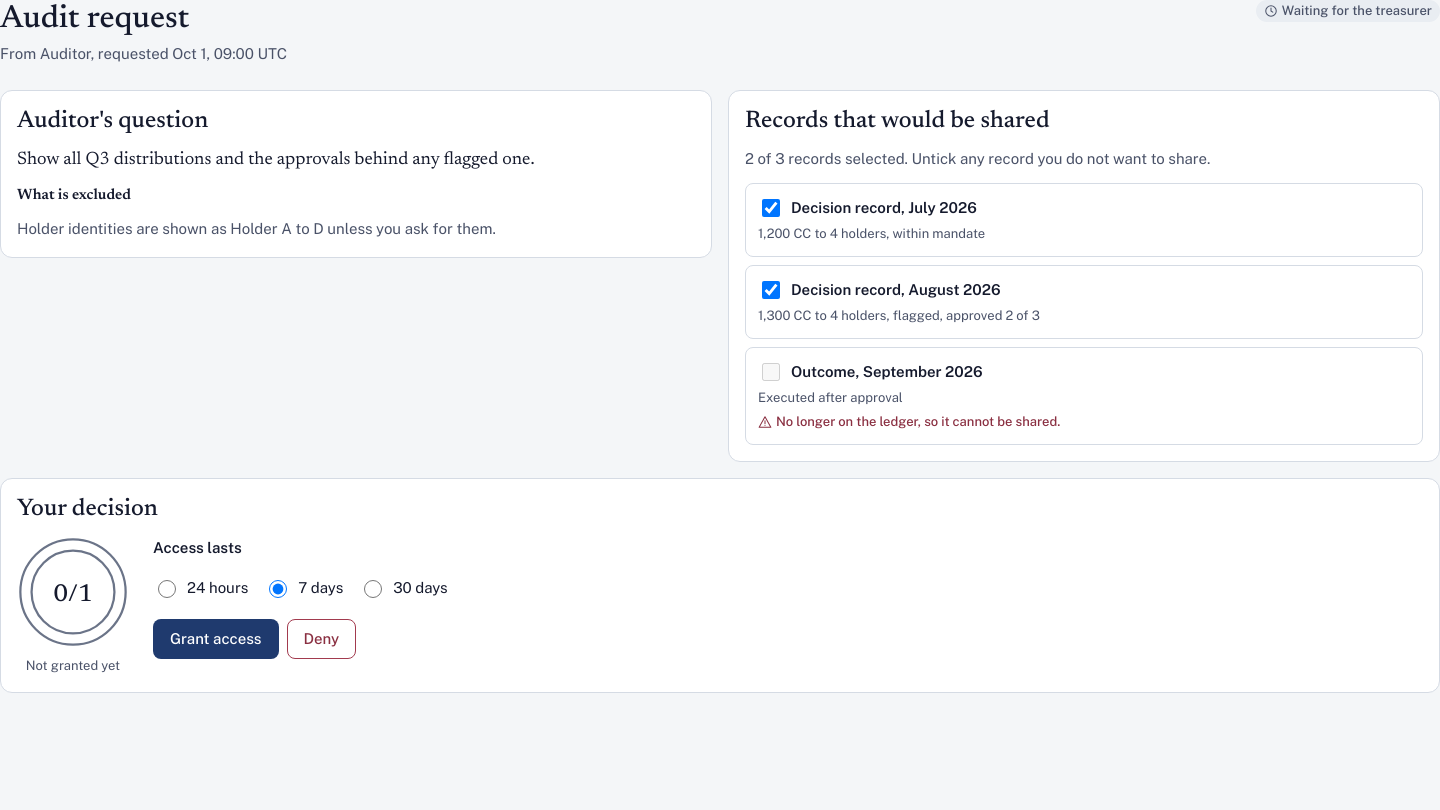
it: treasurer review page › requires a reason to deny, then sends it and says "Request denied"
Expected: the element "Auditor's question" is shown, [0, 90, 712, 258]
Step 1. Click the button "Deny" → [321, 639], box [286, 619, 356, 659]
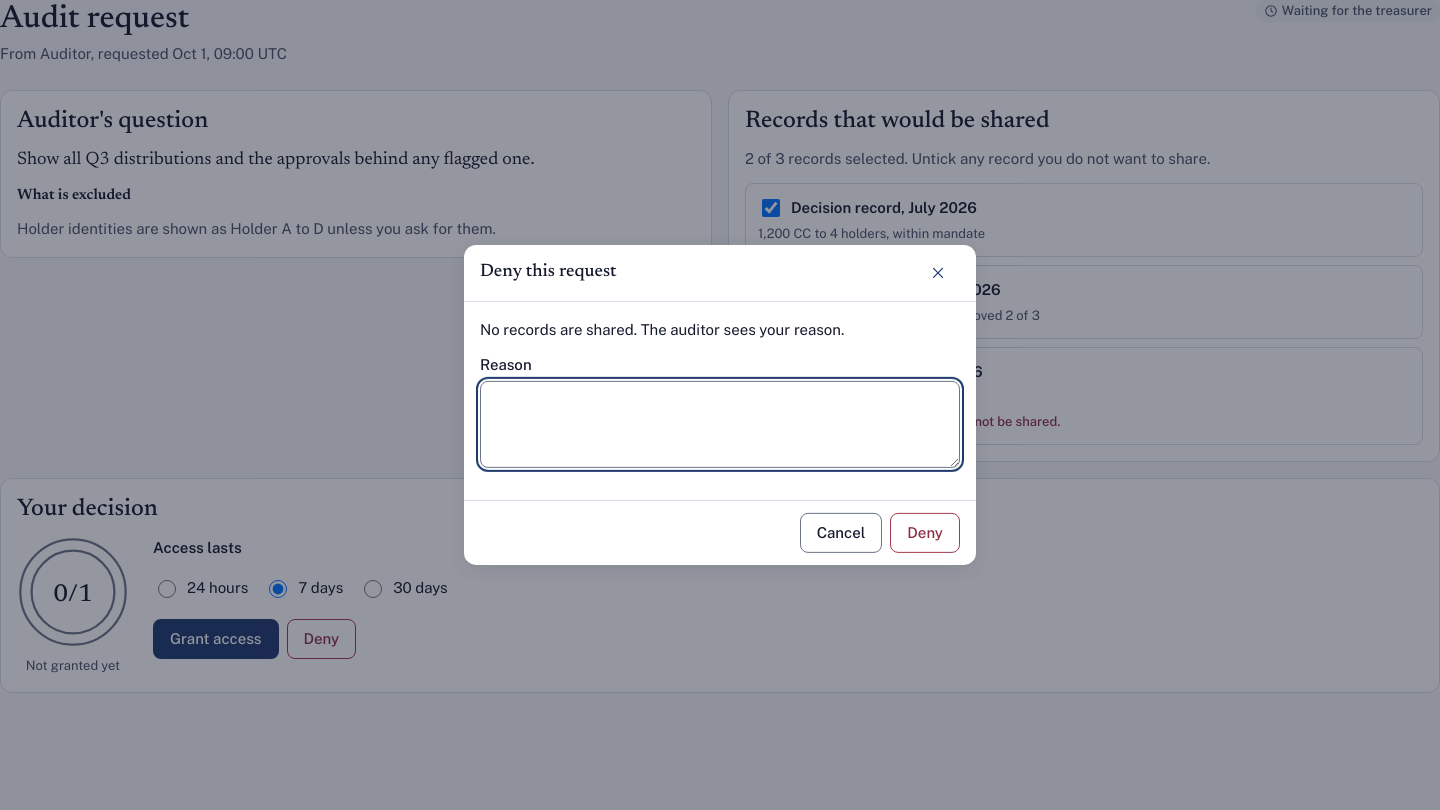
Step 2. Click the button "Deny" → [925, 533], box [890, 513, 960, 553]
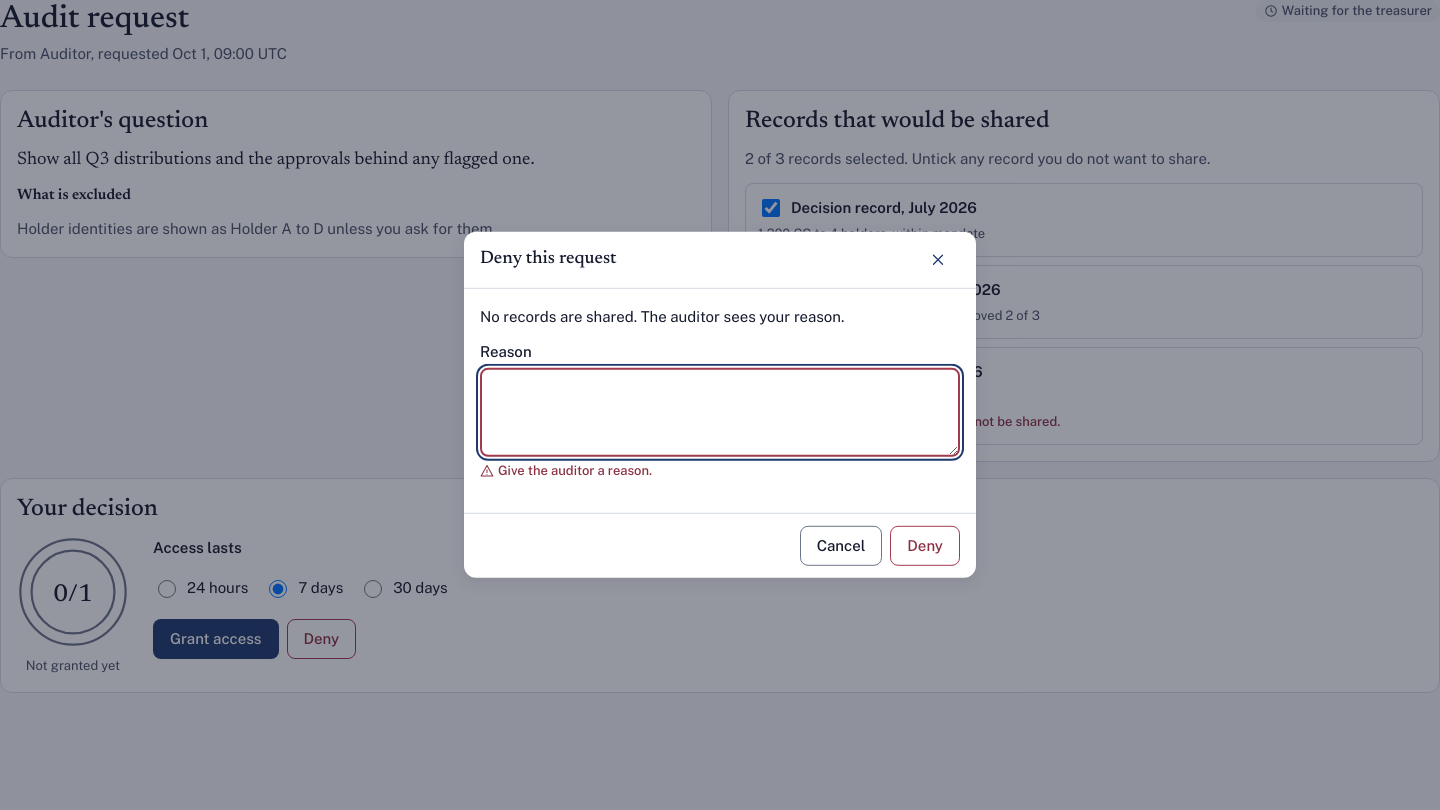
Expected: the text "Give the auditor a reason." is shown, [498, 461, 652, 481]
Step 3. Type "Too broad for this quarter." into the text box labelled "Reason" → [720, 412], box [480, 367, 960, 457]
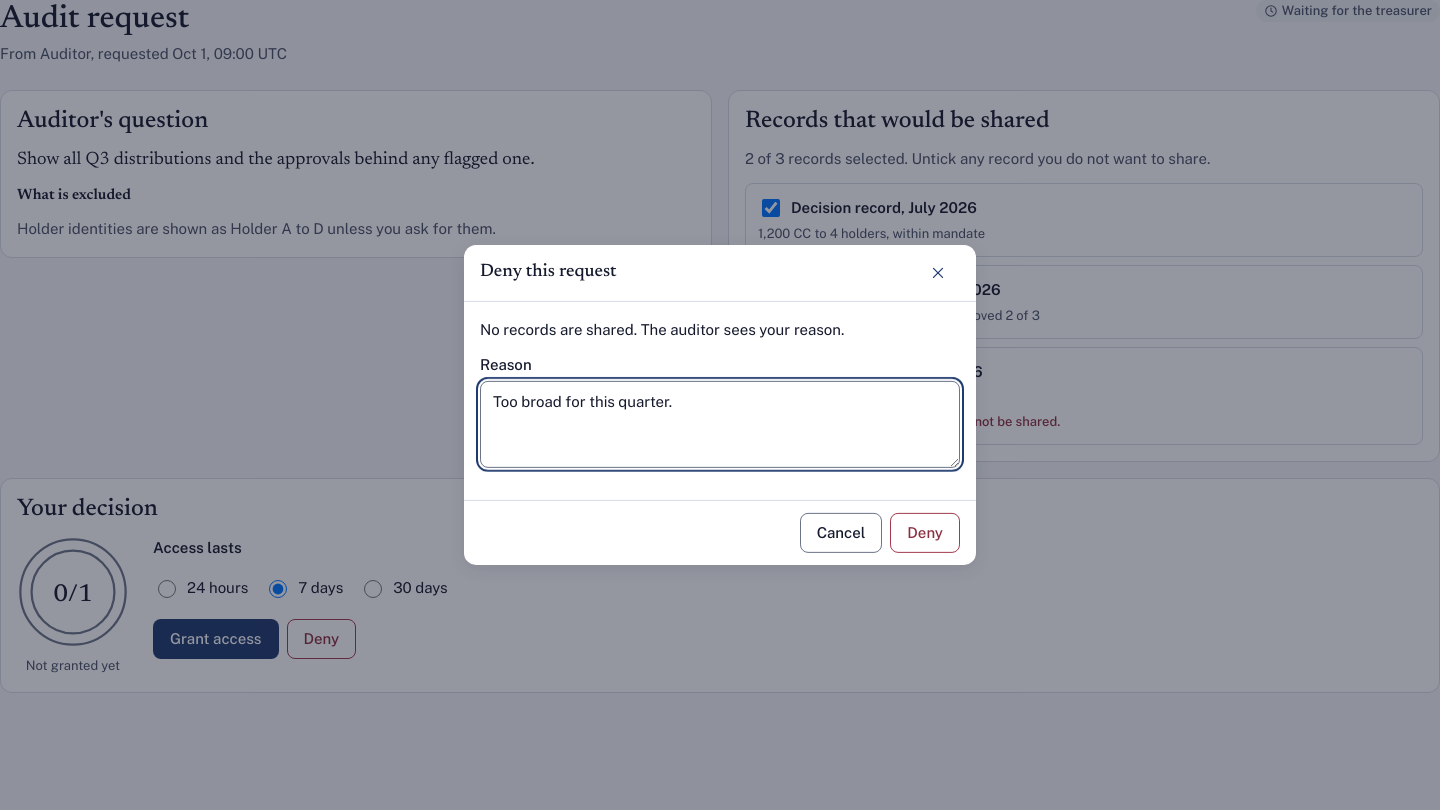
Step 4. Click the button "Deny" → [925, 533], box [890, 513, 960, 553]
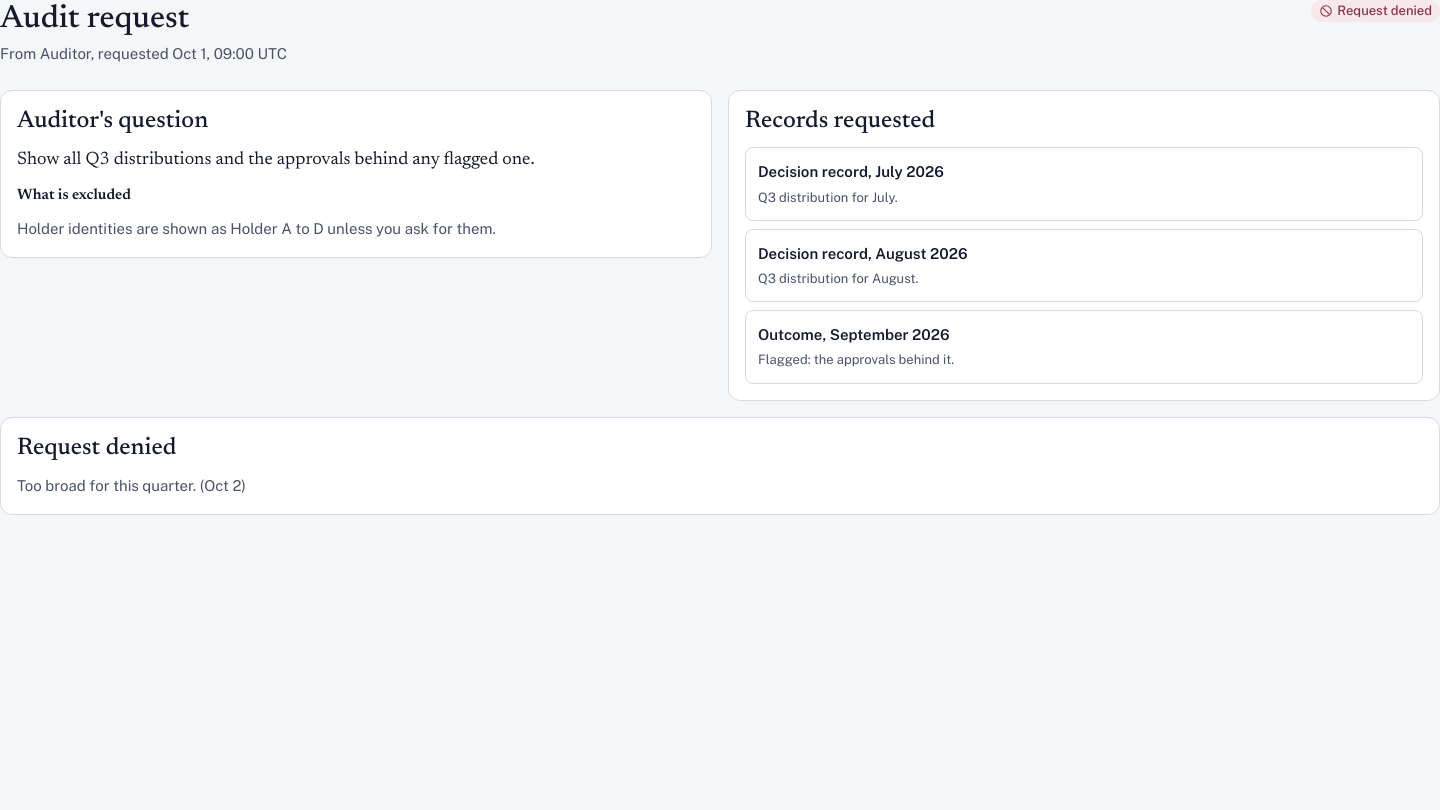
Expected: the heading "Request denied" is shown, [17, 436, 176, 460]
Expected: the dialog is gone
